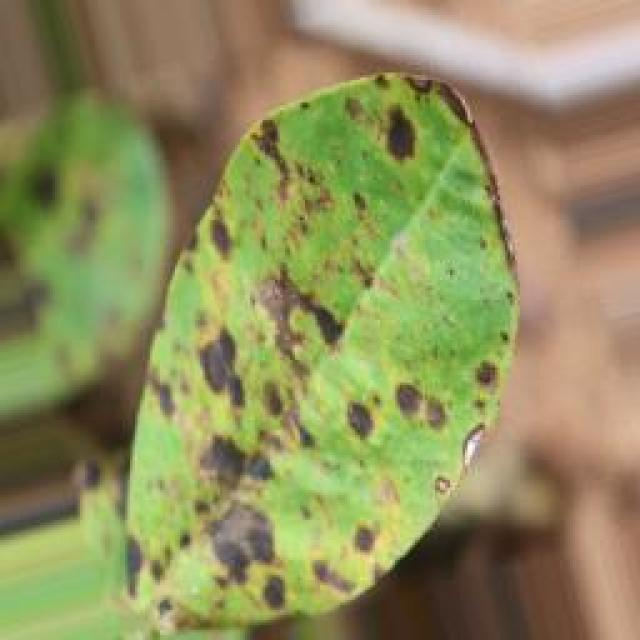Yellowish: (98, 56, 532, 615)
